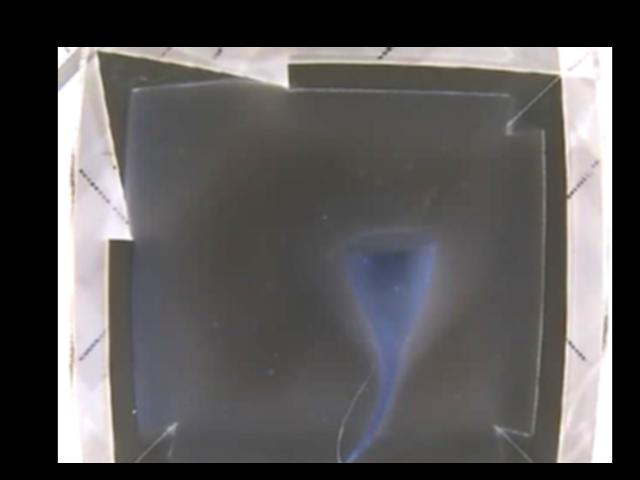Mooli: (337, 227, 435, 358)
